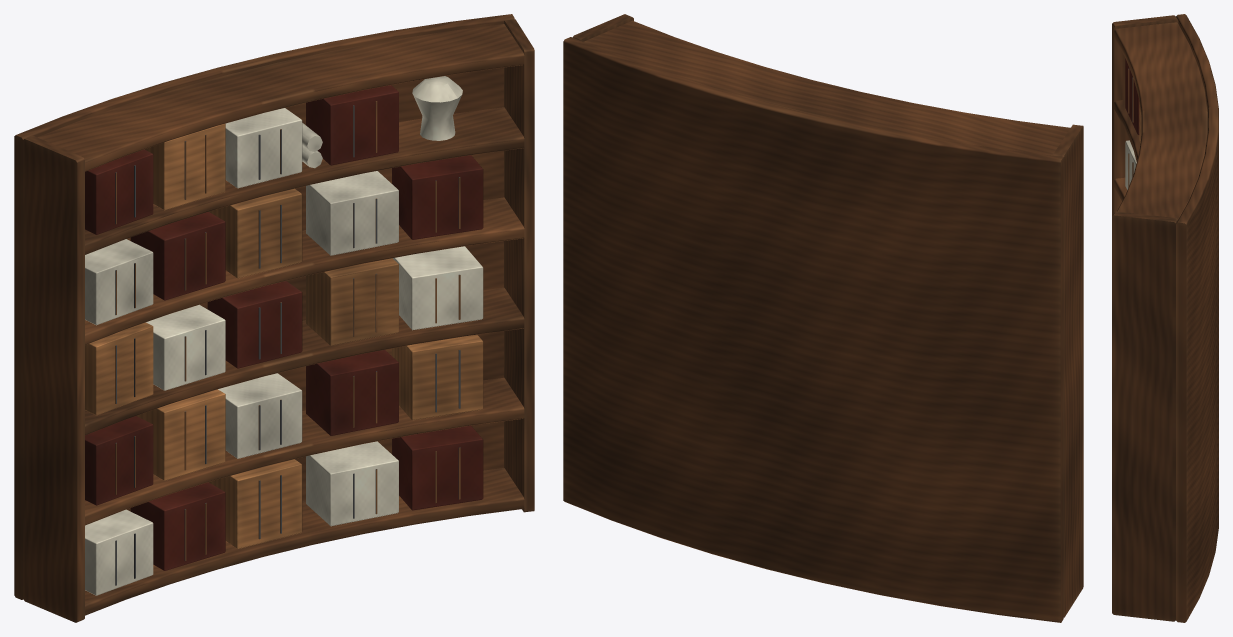
File: Furn_Bookshelf_Arc.fbx
The picture shows the model from 3 angles, left to right: view 1: azimuth 30°, elevation 25°; view 2: azimuth 150°, elevation 25°; view 3: azimuth 270°, elevation 25°; orthographic projection. The views are drawn at different scales.
Parts seen in each view (by area): view 1: Furn_Bookshelf_Arc; view 2: Furn_Bookshelf_Arc; view 3: Furn_Bookshelf_Arc.
Boxes of the visible parts, x1,y1,x2,y2 form: Furn_Bookshelf_Arc: (14,14,534,622); Furn_Bookshelf_Arc: (563,14,1083,622); Furn_Bookshelf_Arc: (1112,14,1218,622).
Size of the model in its own units: 2.25 by 2 by 0.4845.
4 materials, 4 textured.
